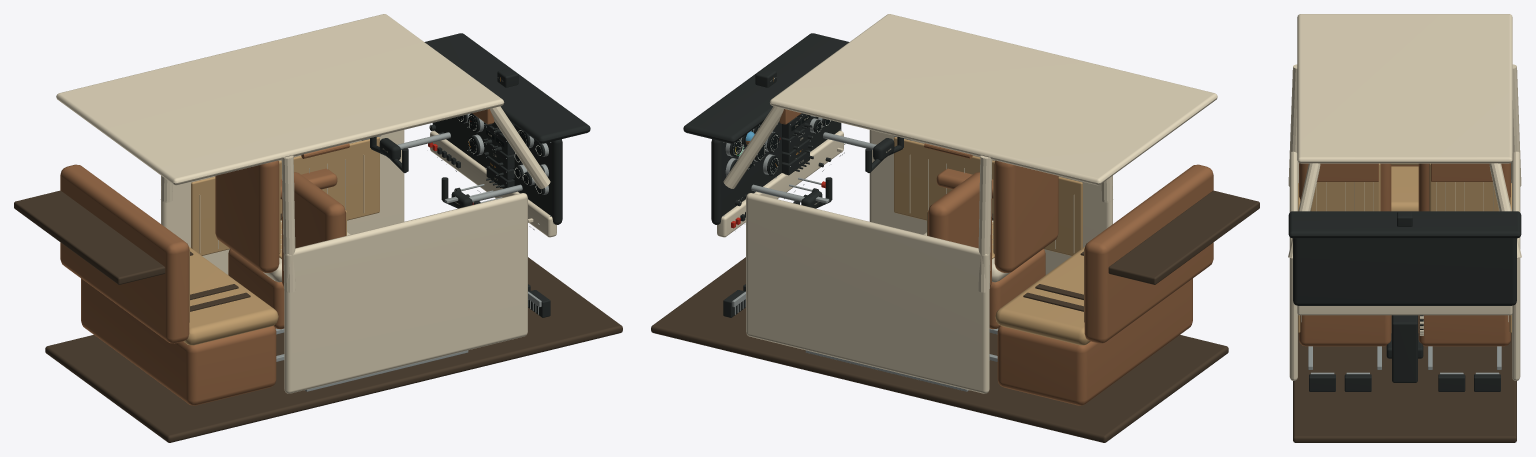
File: c172-interior.glb
3 views of the same model, side by side, from view 1: azimuth 30°, elevation 25°; view 2: azimuth 150°, elevation 25°; view 3: azimuth 270°, elevation 25° (orthographic). The views are drawn at different scales.
Visible parts, largest first — view 1: C172_Interior_static, C172_Headliner, C172_Door_R, C172_Rear_bench_base, C172_Door_L, C172_Seat_base_L, C172_Yoke_L_roll; view 2: C172_Interior_static, C172_Headliner, C172_Door_L, C172_Rear_bench_base, C172_Door_R, C172_Seat_base_R, C172_Yoke_R_roll; view 3: C172_Interior_static, C172_Headliner, C172_Seat_base_R, C172_Seat_base_L, C172_Door_L, C172_Door_R, C172_Sunvisor_L, C172_Sunvisor_R, C172_Pedal_L_R, C172_Pedal_R_L, C172_Pedal_L_L, C172_Pedal_R_R (+1 smaller).
Boxes of the visible parts, <box> form: C172_Interior_static: <box>14,33,622,442</box>; C172_Headliner: <box>56,14,504,185</box>; C172_Door_R: <box>284,193,527,393</box>; C172_Rear_bench_base: <box>81,278,276,405</box>; C172_Door_L: <box>161,130,404,274</box>; C172_Seat_base_L: <box>228,249,284,329</box>; C172_Yoke_L_roll: <box>370,136,408,172</box>; C172_Interior_static: <box>651,33,1259,442</box>; C172_Headliner: <box>769,14,1217,185</box>; C172_Door_L: <box>746,193,989,393</box>; C172_Rear_bench_base: <box>997,278,1192,405</box>; C172_Door_R: <box>869,130,1112,274</box>; C172_Seat_base_R: <box>989,249,1045,329</box>; C172_Yoke_R_roll: <box>865,136,903,172</box>; C172_Interior_static: <box>1288,64,1521,442</box>; C172_Headliner: <box>1297,14,1512,163</box>; C172_Seat_base_R: <box>1299,315,1391,346</box>; C172_Seat_base_L: <box>1418,315,1510,346</box>; C172_Door_L: <box>1512,151,1520,380</box>; C172_Door_R: <box>1289,151,1297,380</box>; C172_Sunvisor_L: <box>1431,163,1492,181</box>; C172_Sunvisor_R: <box>1317,163,1378,181</box>; C172_Pedal_L_R: <box>1438,374,1465,391</box>; C172_Pedal_R_L: <box>1344,374,1371,391</box>; C172_Pedal_L_L: <box>1474,374,1500,391</box>; C172_Pedal_R_R: <box>1309,374,1335,391</box>.
Bounding box in the file's own units: 2.4 × 1.2 × 1.09.
